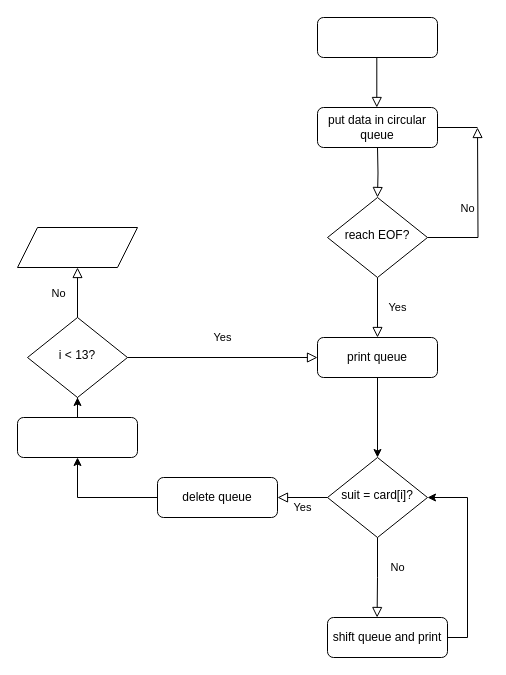
The diagram is 506 pixels wide and 675 high, and some of its shapes have lost their labels. The box of each missing label's shape, as (x1, y1, x2, y2) in pixels:
i++: (16, 416, 138, 458)
read file: (316, 16, 438, 58)
return 0: (16, 226, 138, 268)
